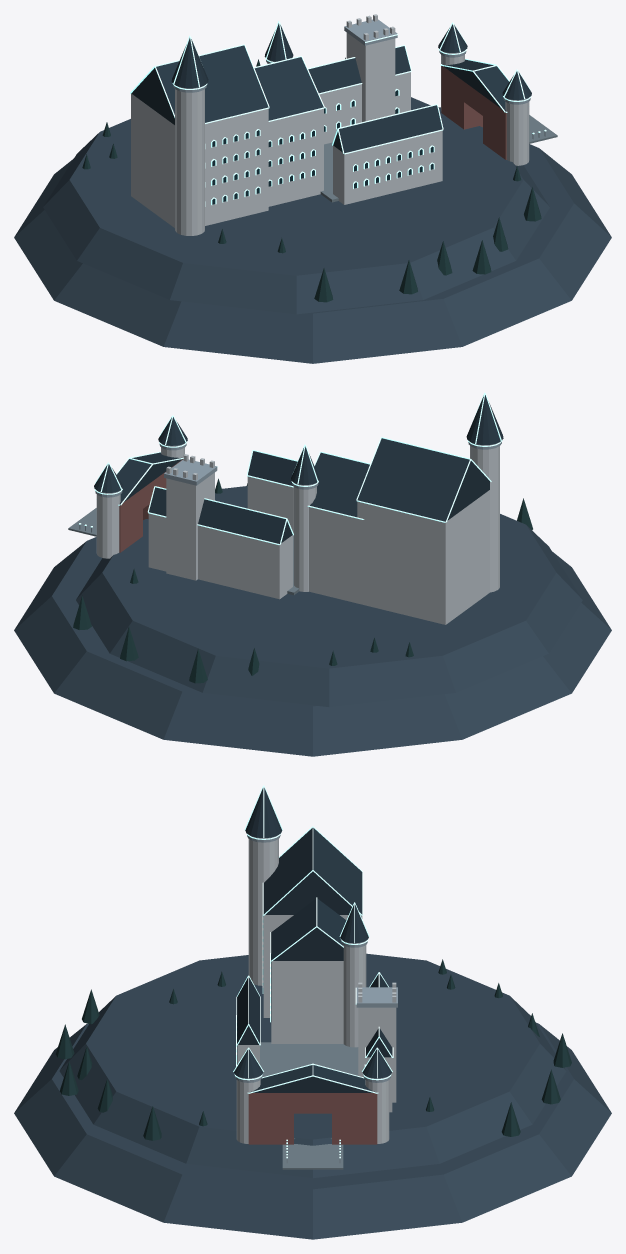
File: castle.gltf
3 renders of one model, top to bottom at view 1: azimuth 30°, elevation 25°; view 2: azimuth 150°, elevation 25°; view 3: azimuth 270°, elevation 25°, orthographic.
Visible parts, largest first — view 1: rock, stone, roof, ice, gate, forest, window, trim, court; view 2: rock, stone, roof, ice, forest, gate, trim, court; view 3: rock, roof, stone, gate, court, forest, ice, trim.
Boxes of the visible parts, left/top/right/bottom form: rock: left=14, top=97, right=611, bottom=363; stone: left=131, top=14, right=529, bottom=235; roof: left=131, top=23, right=531, bottom=153; ice: left=130, top=21, right=546, bottom=206; gate: left=441, top=66, right=506, bottom=159; forest: left=82, top=57, right=541, bottom=302; window: left=212, top=90, right=433, bottom=204; trim: left=173, top=19, right=546, bottom=139; court: left=320, top=115, right=557, bottom=202; rock: left=14, top=486, right=611, bottom=756; stone: left=96, top=446, right=499, bottom=624; roof: left=94, top=395, right=503, bottom=543; ice: left=79, top=392, right=502, bottom=544; forest: left=73, top=478, right=532, bottom=683; gate: left=119, top=459, right=183, bottom=552; trim: left=79, top=442, right=501, bottom=532; court: left=68, top=508, right=299, bottom=595; rock: left=14, top=953, right=611, bottom=1239; roof: left=234, top=788, right=392, bottom=1092; stone: left=236, top=839, right=396, bottom=1143; gate: left=248, top=1093, right=377, bottom=1144; court: left=260, top=1042, right=358, bottom=1169; forest: left=55, top=959, right=571, bottom=1140; ice: left=233, top=785, right=393, bottom=1158; trim: left=235, top=835, right=397, bottom=1163.
Size of the model in its own units: 158 by 74.59 by 158.
